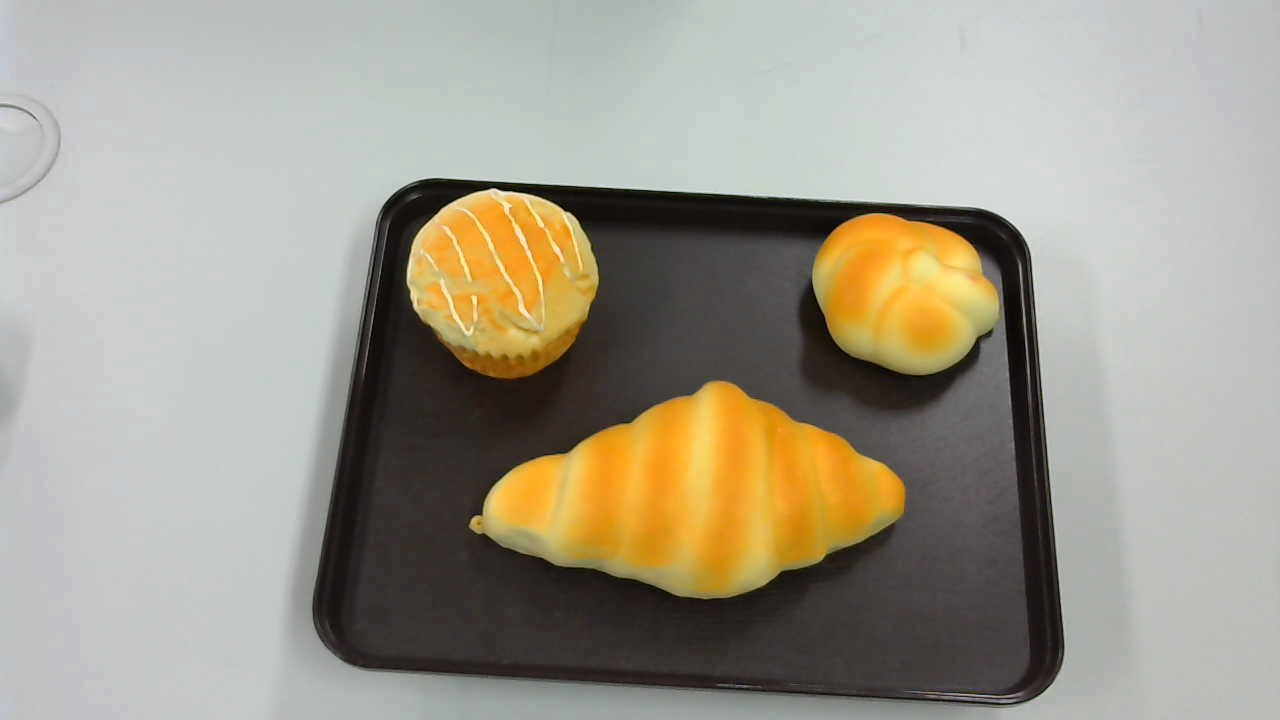croissant: (470, 381, 905, 599)
cupcake: (405, 188, 600, 379)
twist bread: (811, 211, 1000, 374)
